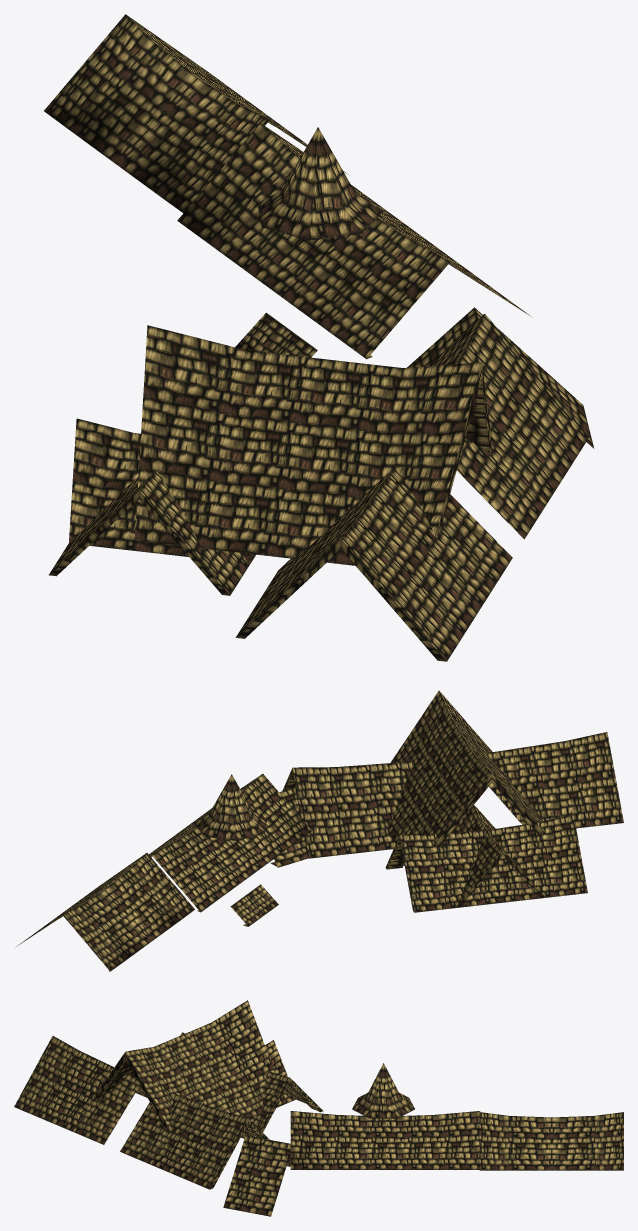
The model's file is LAKETOWN_EXTERIOR_PS_LT_ROOFS2267.fbx.
3 views of the same model, one above another, from view 1: azimuth 30°, elevation 25°; view 2: azimuth 150°, elevation 25°; view 3: azimuth 270°, elevation 25° (orthographic). The views are drawn at different scales.
Visible parts, largest first — view 1: LAKETOWN_EXTERIOR_PS_LT_ROOFS2267; view 2: LAKETOWN_EXTERIOR_PS_LT_ROOFS2267; view 3: LAKETOWN_EXTERIOR_PS_LT_ROOFS2267.
Part boxes in pixels (x1=…): LAKETOWN_EXTERIOR_PS_LT_ROOFS2267: x1=44, y1=14, x2=593, y2=661; LAKETOWN_EXTERIOR_PS_LT_ROOFS2267: x1=16, y1=690, x2=623, y2=971; LAKETOWN_EXTERIOR_PS_LT_ROOFS2267: x1=14, y1=1000, x2=623, y2=1216.
Size of the model in its own units: 256309 by 96746 by 458611.
Materials: 1 (1 with a texture image).
